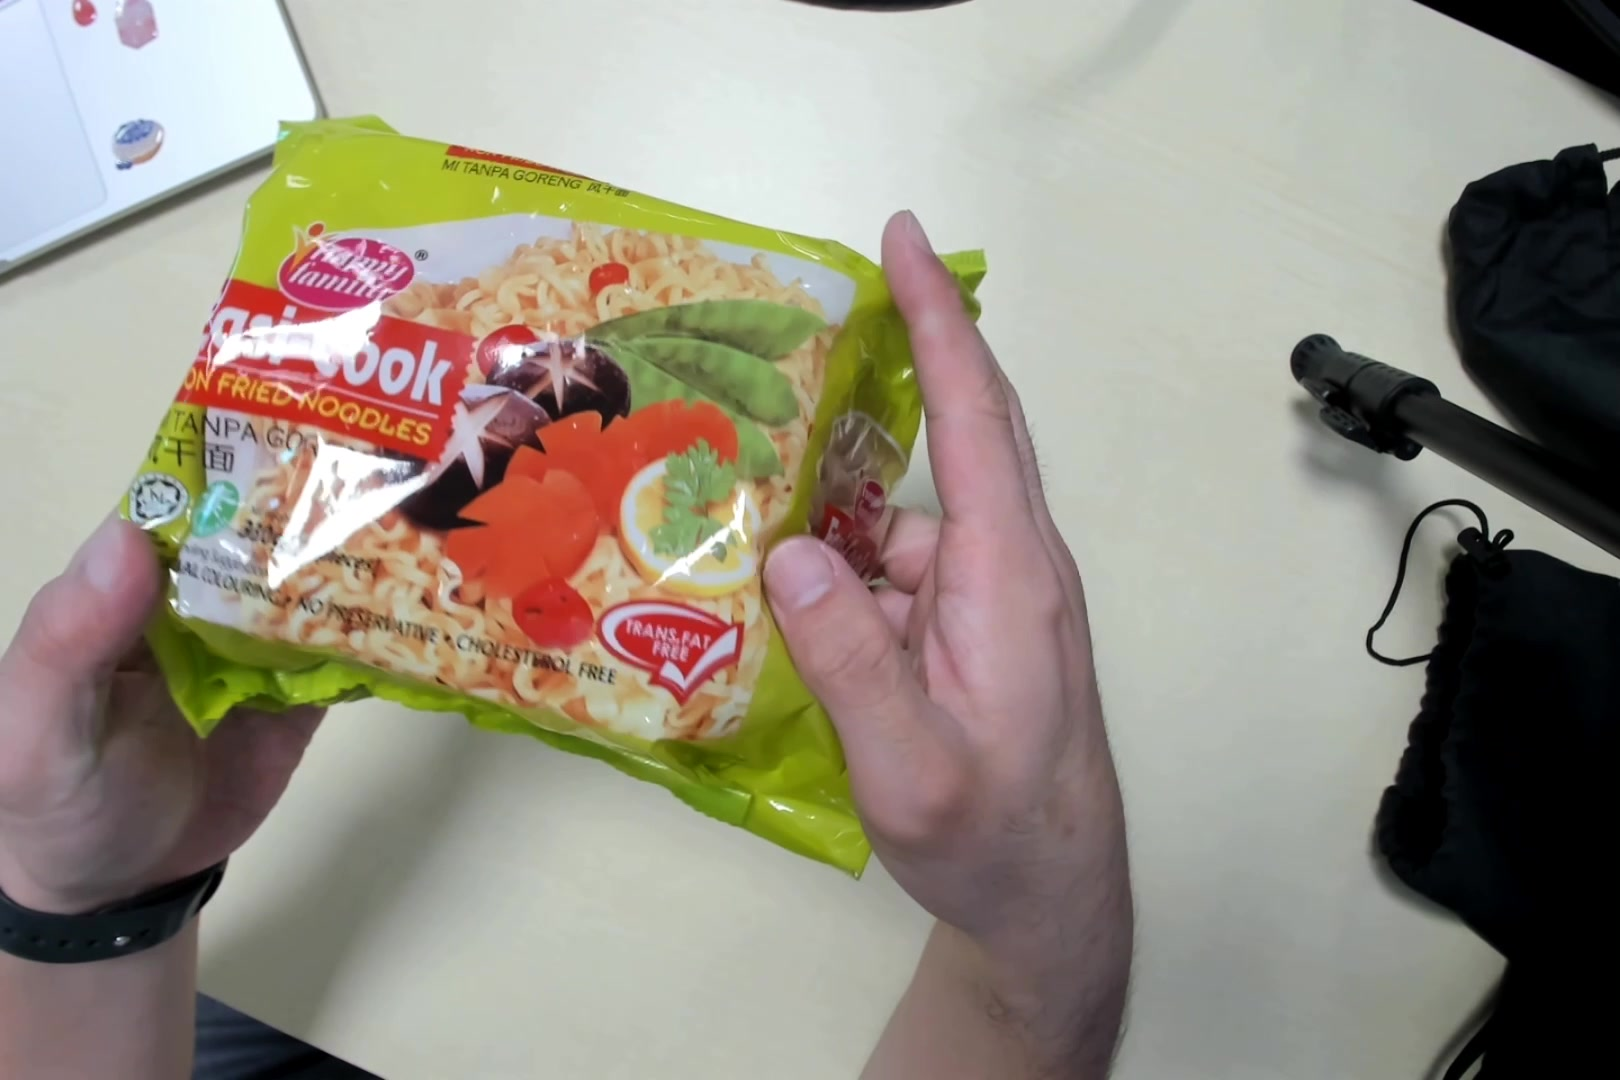OtherNoodles_300-399g_Halal_NonHealthy: (115, 117, 912, 837)
